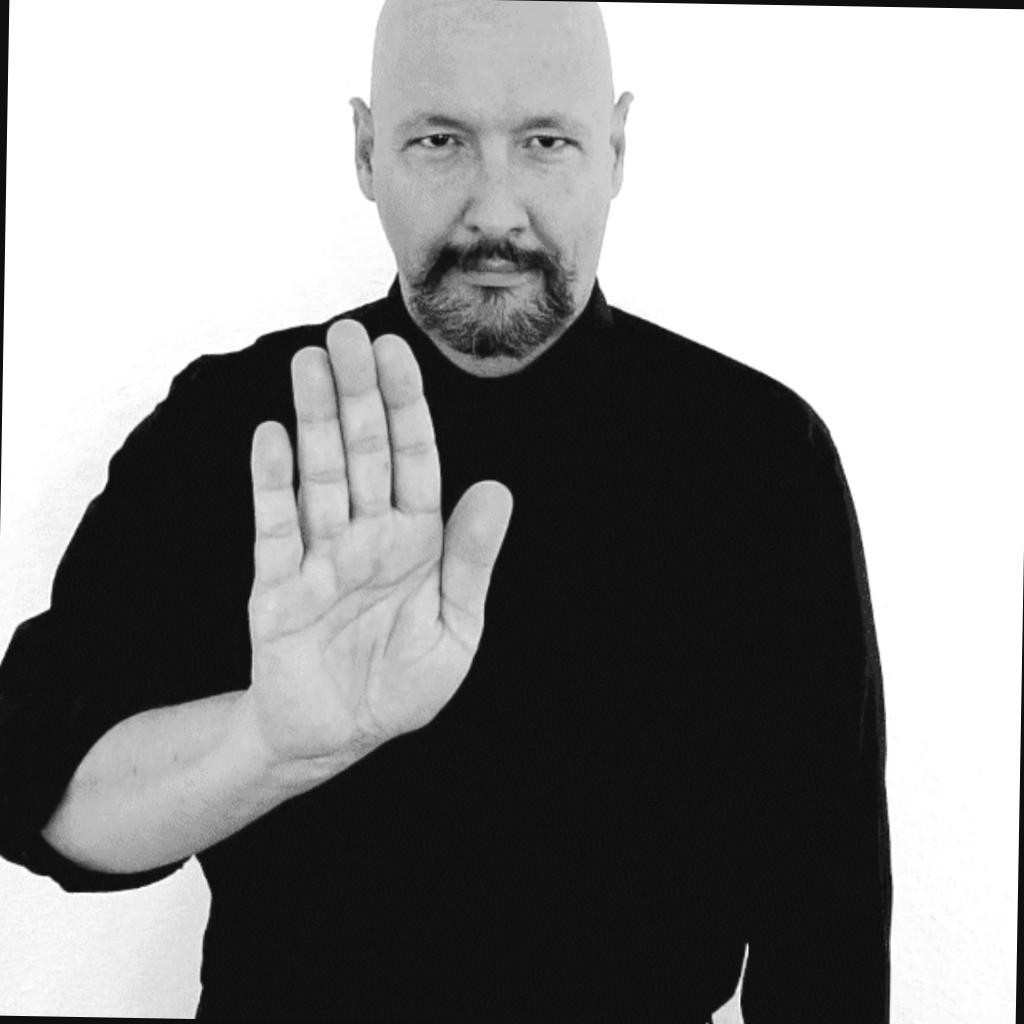your: (246, 314, 518, 758)
